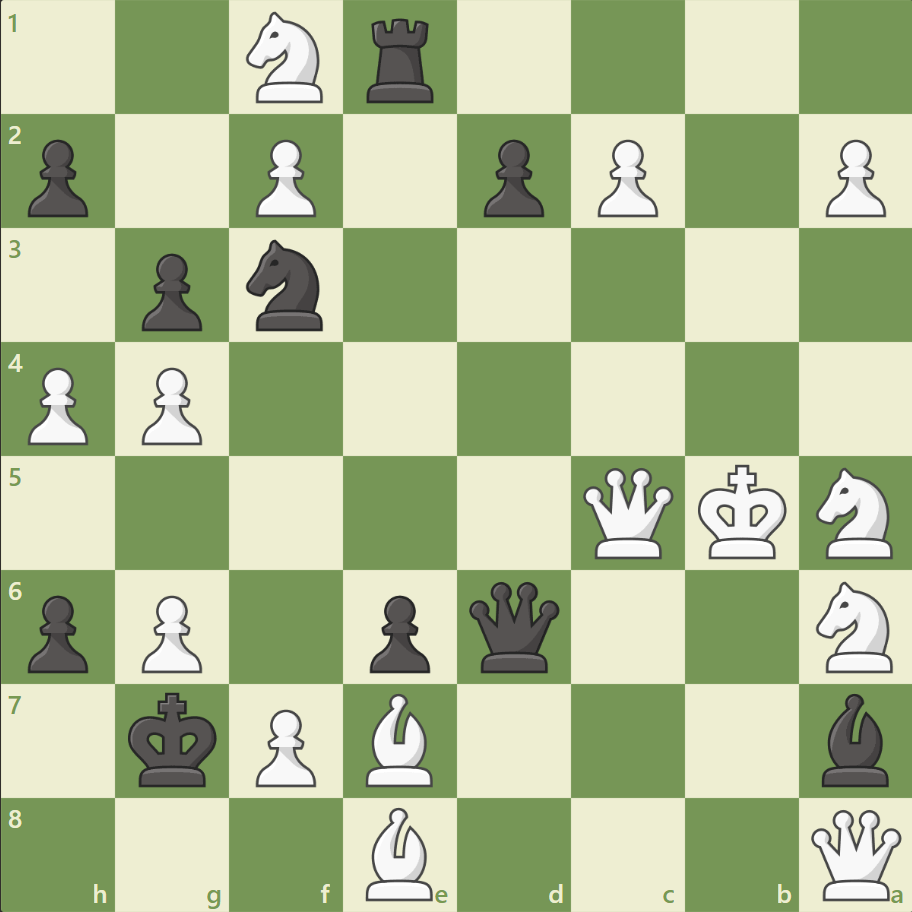B: (358, 801, 442, 904), (358, 687, 442, 790)
K: (692, 458, 792, 566)
N: (806, 461, 903, 564), (238, 7, 335, 110), (806, 575, 903, 677)
P: (247, 700, 322, 791), (133, 586, 208, 677), (133, 359, 208, 450), (20, 359, 95, 450), (247, 132, 322, 223), (815, 132, 889, 223), (588, 132, 662, 223)
Q: (805, 804, 904, 903), (578, 463, 677, 562)
b: (812, 687, 896, 790)
k: (124, 685, 224, 793)
n: (238, 234, 335, 337)
p: (20, 586, 95, 677), (133, 246, 208, 337), (474, 132, 549, 223), (20, 132, 95, 223), (361, 586, 435, 677)
q: (464, 576, 563, 676)
r: (360, 12, 442, 109)
